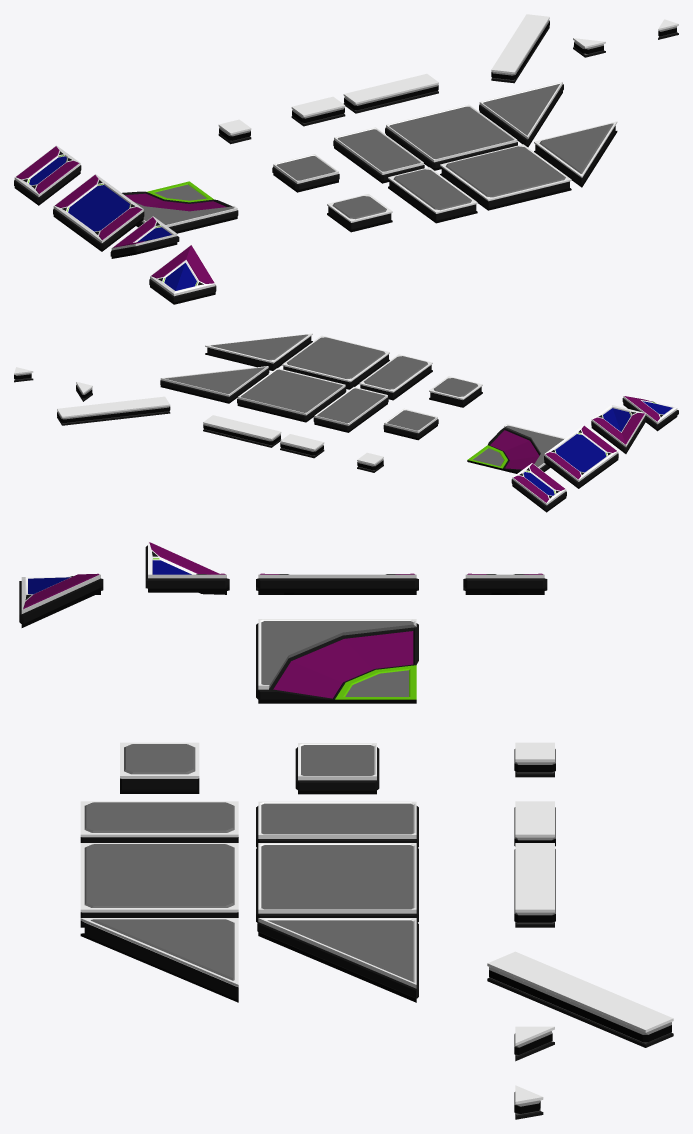
File: ColonyFactory_Floor00.fbx
The picture shows the model from 3 angles, top to bottom: view 1: azimuth 30°, elevation 25°; view 2: azimuth 150°, elevation 25°; view 3: azimuth 270°, elevation 25°; orthographic projection. The views are drawn at different scales.
Parts seen in each view (by area): view 1: Plane001, Box001, Box034, Box033, Plane002, Box004, Plane004, Box002, Box036, Box037, Box006, Box005 (+6 smaller); view 2: Box001, Plane001, Box033, Box034, Box004, Plane004, Box002, Box006, Plane002, Box035, Box037, Box005 (+5 smaller); view 3: Box033, Box001, Plane001, Box004, Plane004, Box006, Box002, Plane002, Box003, Plane003, Box005, Box034 (+6 smaller).
Part boxes in pixels (<box>): Plane001: <box>440,144,571,210</box>; Box001: <box>385,104,517,170</box>; Box034: <box>53,174,144,251</box>; Box033: <box>122,181,238,233</box>; Plane002: <box>388,167,477,223</box>; Box004: <box>479,81,563,147</box>; Plane004: <box>534,121,617,187</box>; Box002: <box>333,127,424,183</box>; Box036: <box>149,244,216,304</box>; Box037: <box>14,145,81,205</box>; Box006: <box>491,14,549,83</box>; Box005: <box>343,73,438,113</box>; Box001: <box>237,368,346,422</box>; Plane001: <box>282,335,389,389</box>; Box033: <box>467,424,564,473</box>; Box034: <box>544,425,618,488</box>; Box004: <box>160,366,269,403</box>; Plane004: <box>205,333,312,370</box>; Box002: <box>313,387,388,432</box>; Box006: <box>57,396,170,425</box>; Plane002: <box>359,354,432,400</box>; Box035: <box>591,405,646,453</box>; Box037: <box>511,463,566,512</box>; Box005: <box>203,415,281,447</box>; Box033: <box>256,619,418,703</box>; Box001: <box>256,843,418,922</box>; Plane001: <box>80,843,238,927</box>; Box004: <box>257,918,418,1002</box>; Plane004: <box>80,918,238,1002</box>; Box006: <box>487,951,673,1047</box>; Box002: <box>256,801,418,847</box>; Plane002: <box>80,801,238,842</box>; Box003: <box>295,743,379,794</box>; Plane003: <box>120,742,199,793</box>; Box005: <box>514,843,555,927</box>; Box034: <box>256,573,418,594</box>.
Size of the model in its own units: 315 by 15 by 165.
